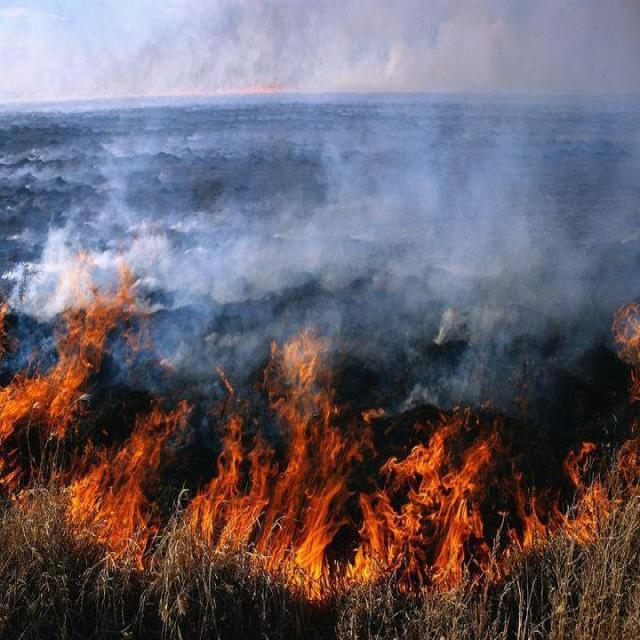fire: (1, 254, 176, 572), (195, 337, 344, 597), (347, 418, 499, 597), (514, 434, 630, 561)
smoke: (265, 224, 352, 272), (42, 239, 63, 306)
